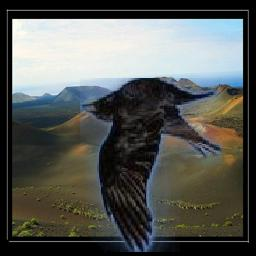Crow: (80, 78, 222, 252)
